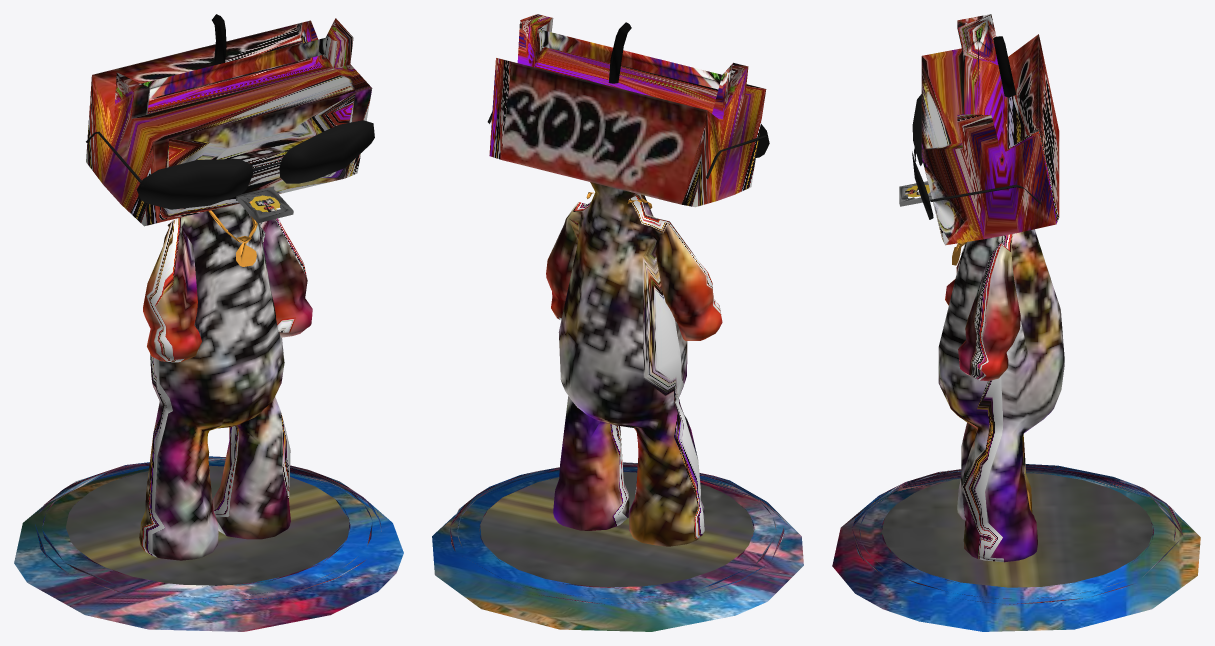
3 renders of one model, left to right at view 1: azimuth 30°, elevation 25°; view 2: azimuth 150°, elevation 25°; view 3: azimuth 270°, elevation 25°, orthographic. The views are drawn at different scales.
Size of the model in its own units: 1.43 by 2.21 by 1.42.
Materials: 11 (6 with a texture image).
